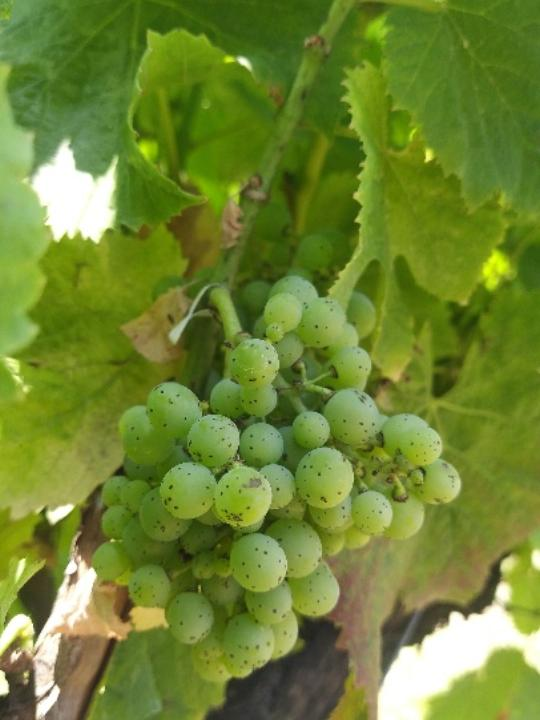grape: (92, 271, 468, 687)
